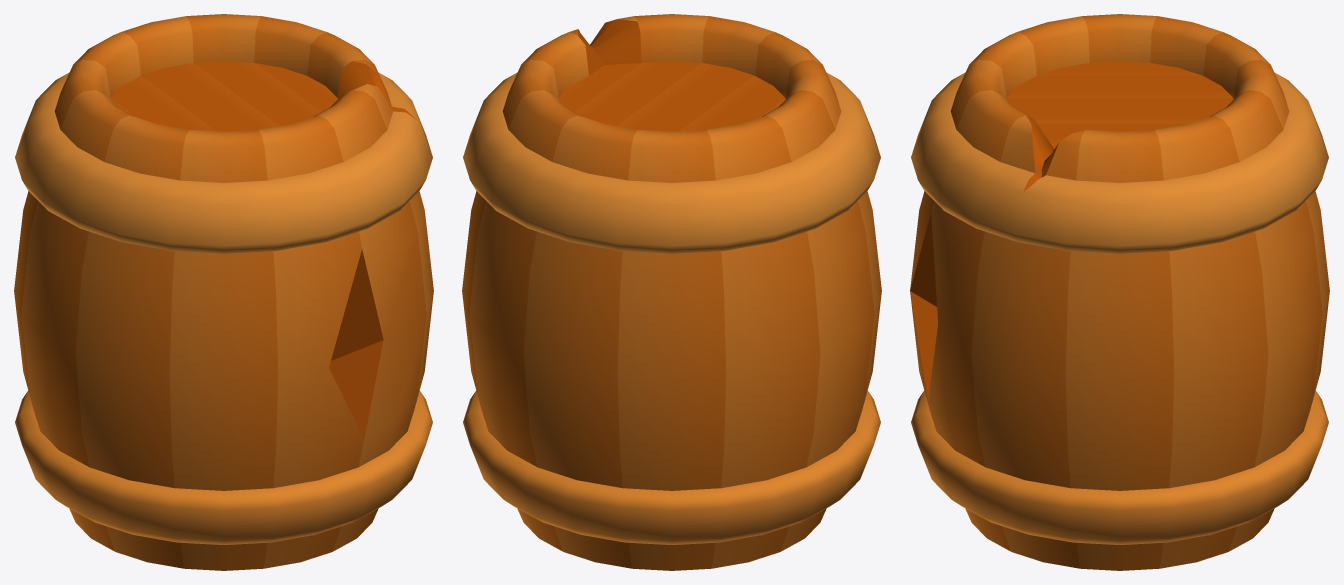
Rendered from Barrel_01.fbx.
3 renders of one model, left to right at view 1: azimuth 30°, elevation 25°; view 2: azimuth 150°, elevation 25°; view 3: azimuth 270°, elevation 25°, orthographic.
Visible parts, largest first — view 1: Barrel_01; view 2: Barrel_01; view 3: Barrel_01.
Boxes of the visible parts, x1,y1,x2,y2 form: Barrel_01: (14,14,433,570); Barrel_01: (462,14,881,570); Barrel_01: (910,14,1329,570).
Bounding box in the file's own units: 82.08 × 92.84 × 82.08.
